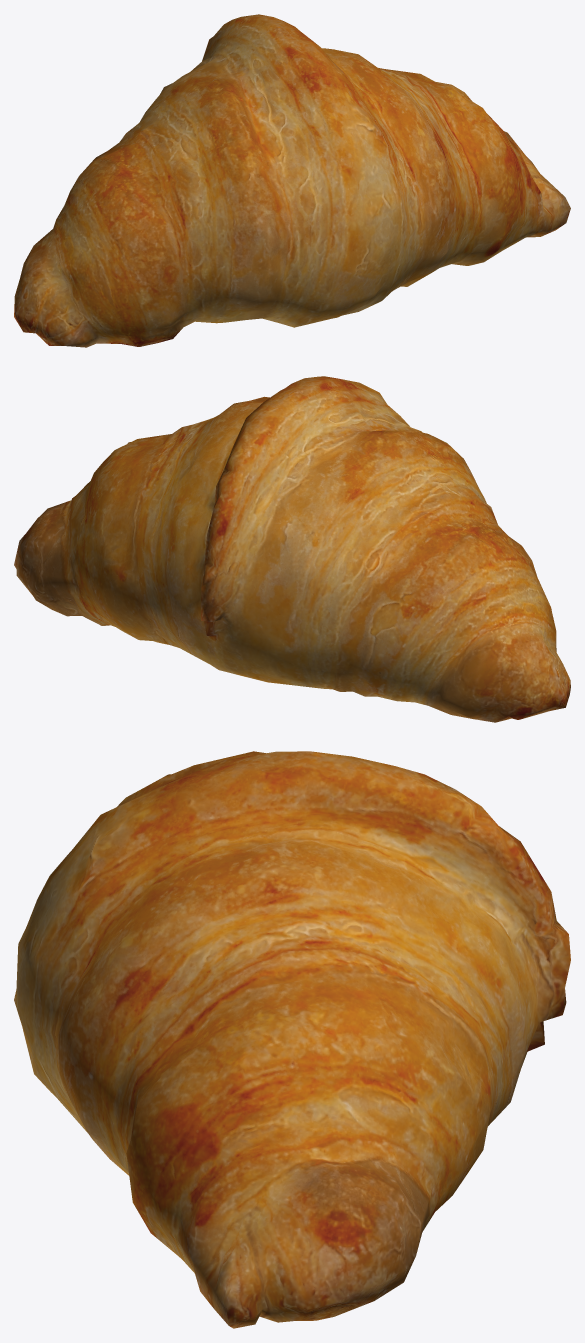
Rendered from SM_Croissant_02a.obj.
3 views of the same model, one above another, from view 1: azimuth 30°, elevation 25°; view 2: azimuth 150°, elevation 25°; view 3: azimuth 270°, elevation 25° (orthographic). The views are drawn at different scales.
Parts seen in each view (by area): view 1: SM_Croissant_02a; view 2: SM_Croissant_02a; view 3: SM_Croissant_02a.
Boxes of the visible parts, x1,y1,x2,y2 form: SM_Croissant_02a: (14, 14, 570, 347); SM_Croissant_02a: (14, 376, 570, 722); SM_Croissant_02a: (14, 751, 570, 1328).
Size of the model in its own units: 0.2016 by 0.0925 by 0.1174.
